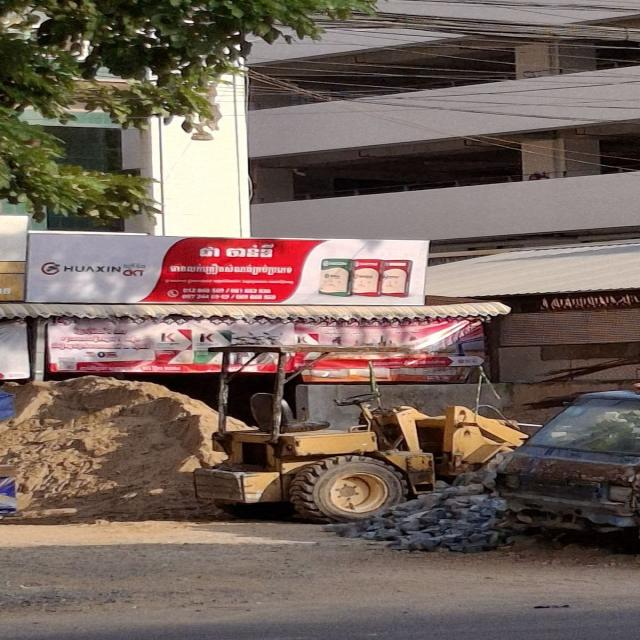Yolov11kh: (177, 240, 290, 264)
